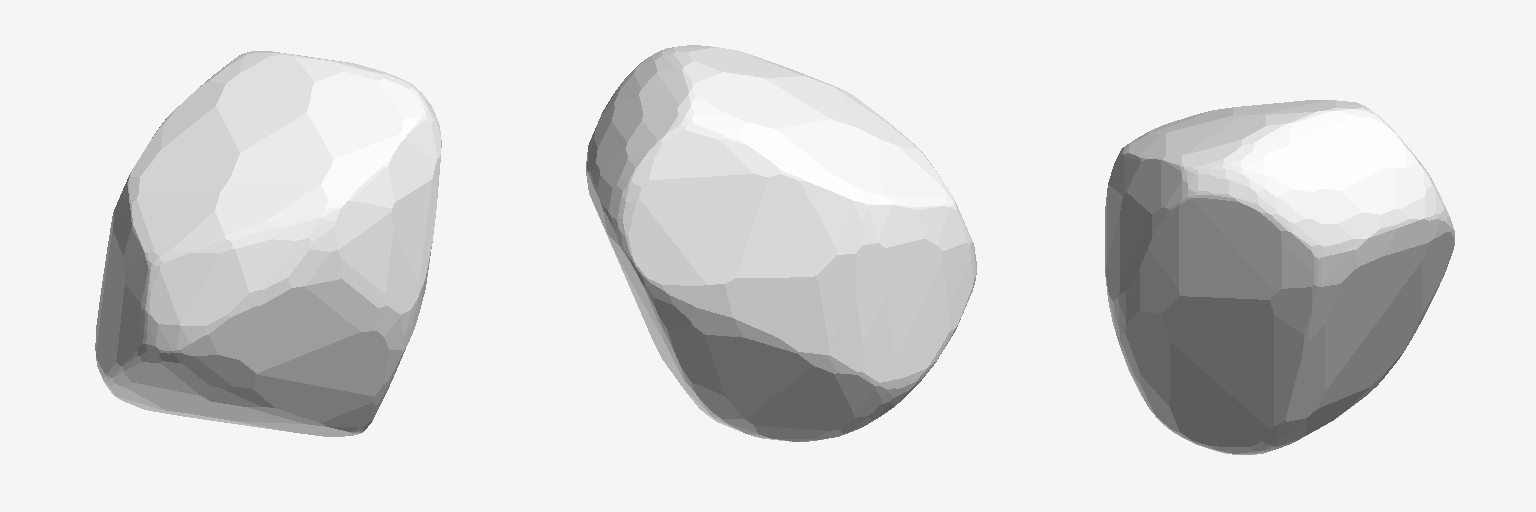
The model's file is Lacadiera.obj.
3 views of the same model, side by side, from view 1: azimuth 30°, elevation 25°; view 2: azimuth 150°, elevation 25°; view 3: azimuth 270°, elevation 25° (orthographic).
Visible parts, largest first — view 1: Lacadiera_ASTEROID_MATL; view 2: Lacadiera_ASTEROID_MATL; view 3: Lacadiera_ASTEROID_MATL.
Part boxes in pixels (bbox=[...]): Lacadiera_ASTEROID_MATL: bbox=[95, 51, 441, 436]; Lacadiera_ASTEROID_MATL: bbox=[586, 45, 976, 441]; Lacadiera_ASTEROID_MATL: bbox=[1105, 100, 1454, 454].
Size of the model in its own units: 1.32 by 1.34 by 1.24.